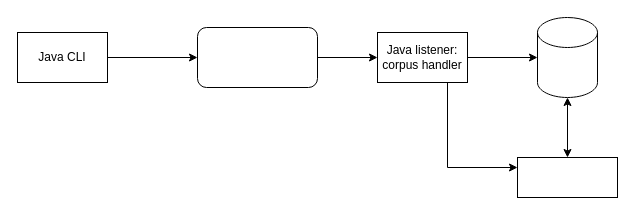
Image size: 635x215. Some labels were removed from this diagram. The shapes that lost their labels are listed below. From the top down, each one's centre as x and y in pixels, then its label:
At pixel 257 57: "OLKi backend".
At pixel 567 177: "Python ML spawned by Java".
